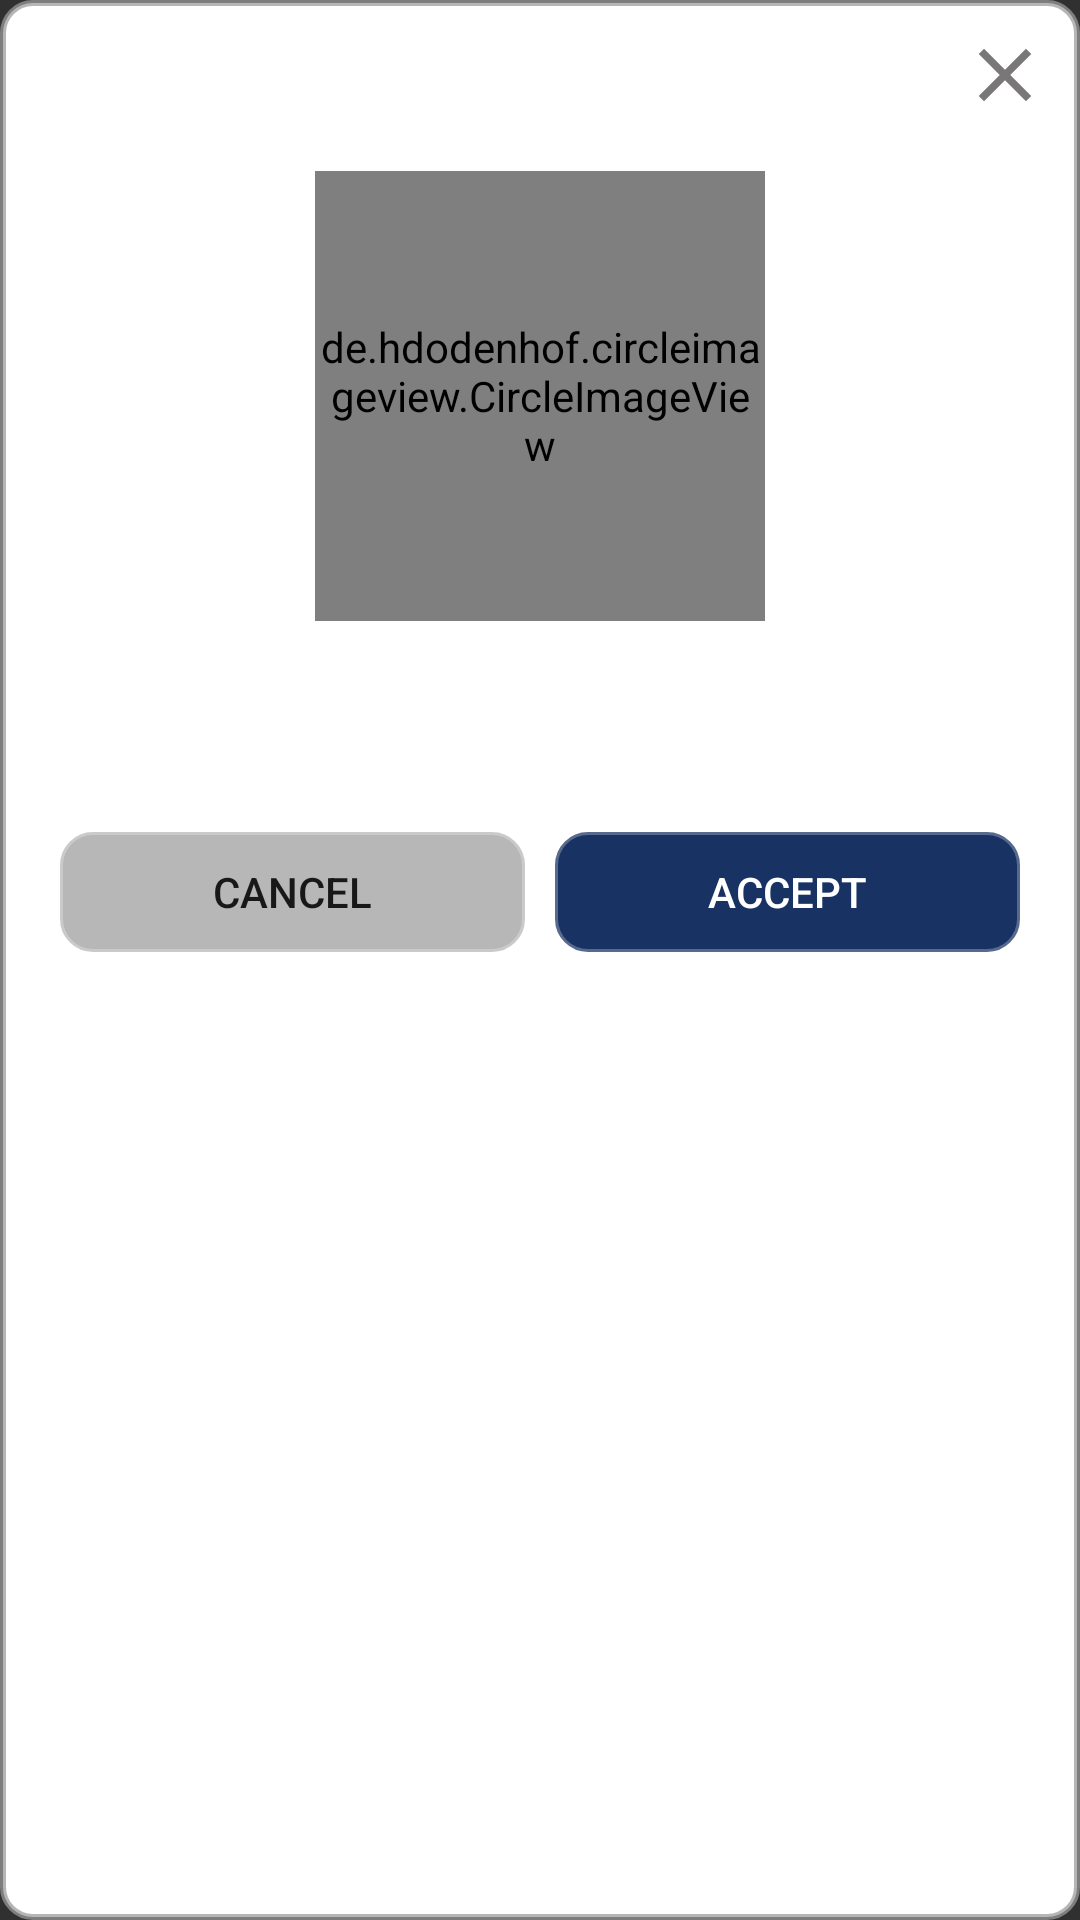

Screen size 1080px×1920px. Icon name, then its center in pixels as [x,y]:
close: [1005,75]
